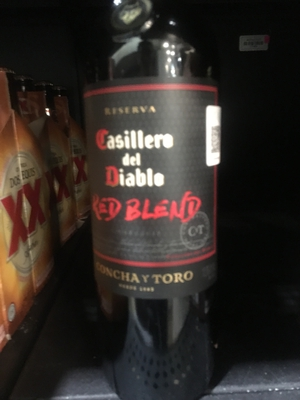casillero del diablo red blend: (75, 3, 229, 380)
